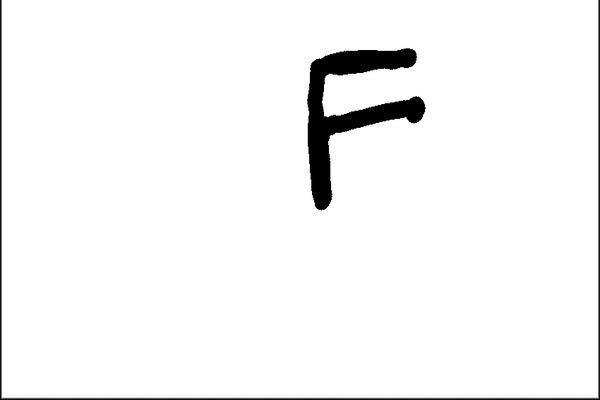F: (301, 43, 428, 216)
